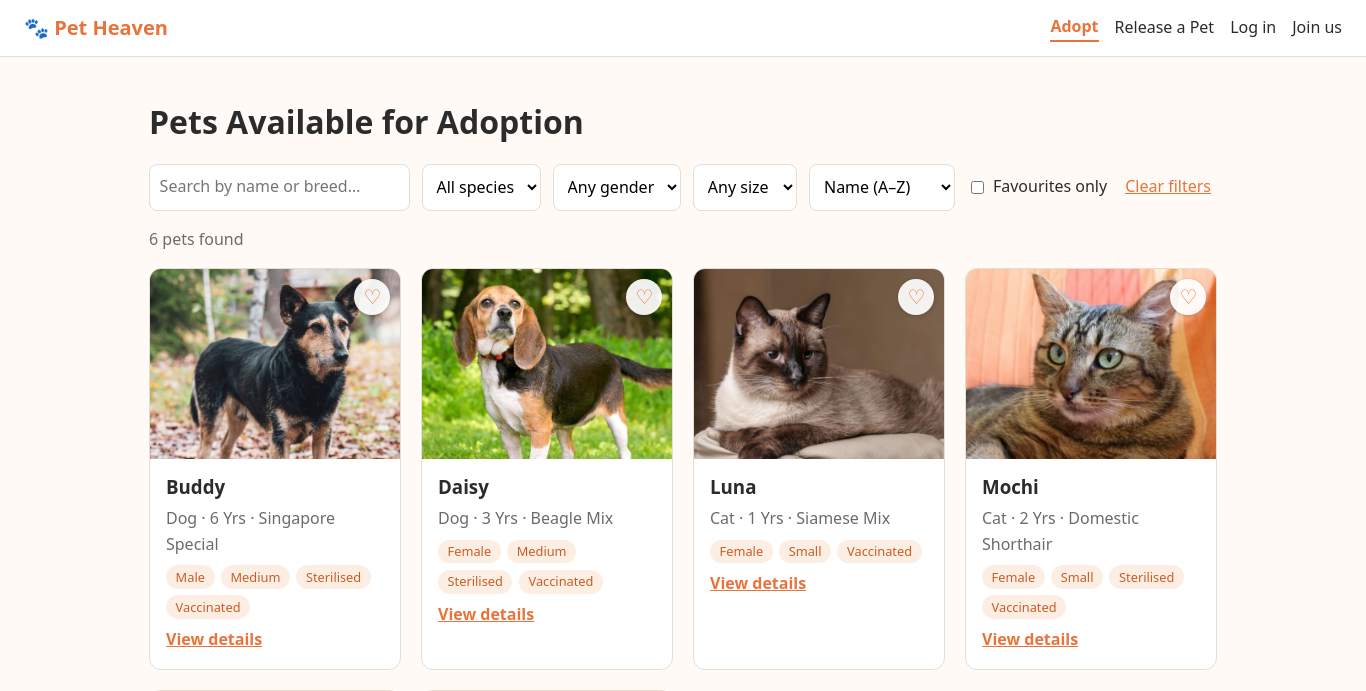
Scenario: Browsing pets › updates the list when a filter is changed
Select "Large" in the dropdown named "Filter by size" at (745, 187), box x1=693 y1=164 x2=797 y2=211
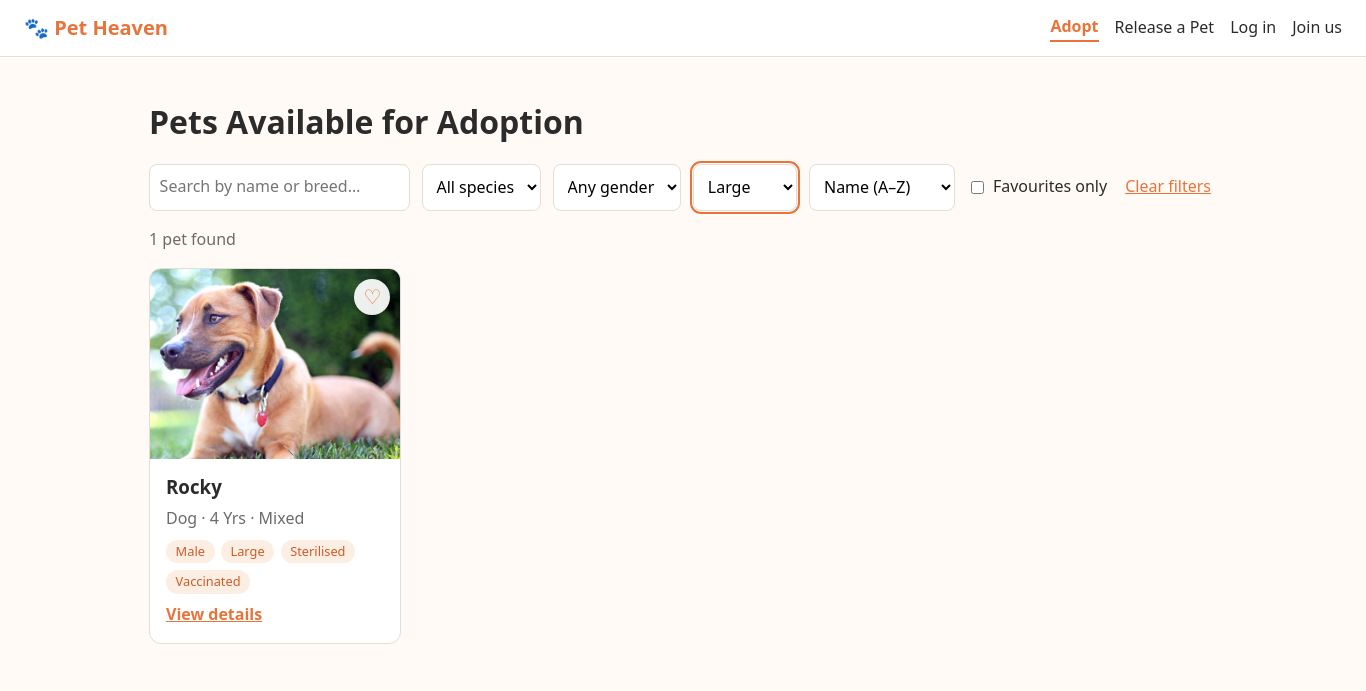
Expected: the heading "Rocky" is shown, x1=166 y1=474 x2=222 y2=499
Expected: the text "1 pet found" is shown, x1=149 y1=228 x2=236 y2=250
